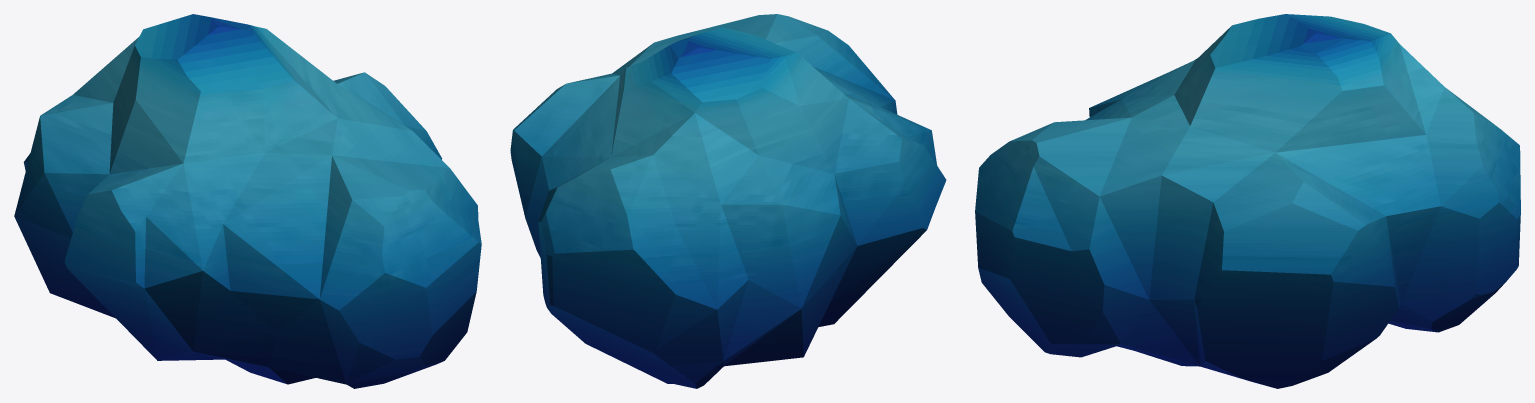
Rendered from rocaesmeralda_09.fbx.
3 views of the same model, side by side, from view 1: azimuth 30°, elevation 25°; view 2: azimuth 150°, elevation 25°; view 3: azimuth 270°, elevation 25° (orthographic). The views are drawn at different scales.
Parts seen in each view (by area): view 1: cueva02; view 2: cueva02; view 3: cueva02.
Part boxes in pixels (left/top/right/bottom): cueva02: left=14, top=14, right=481, bottom=388; cueva02: left=510, top=14, right=946, bottom=388; cueva02: left=975, top=14, right=1520, bottom=388.
Size of the model in its own units: 398 by 307 by 487.
1 material, 1 textured.
